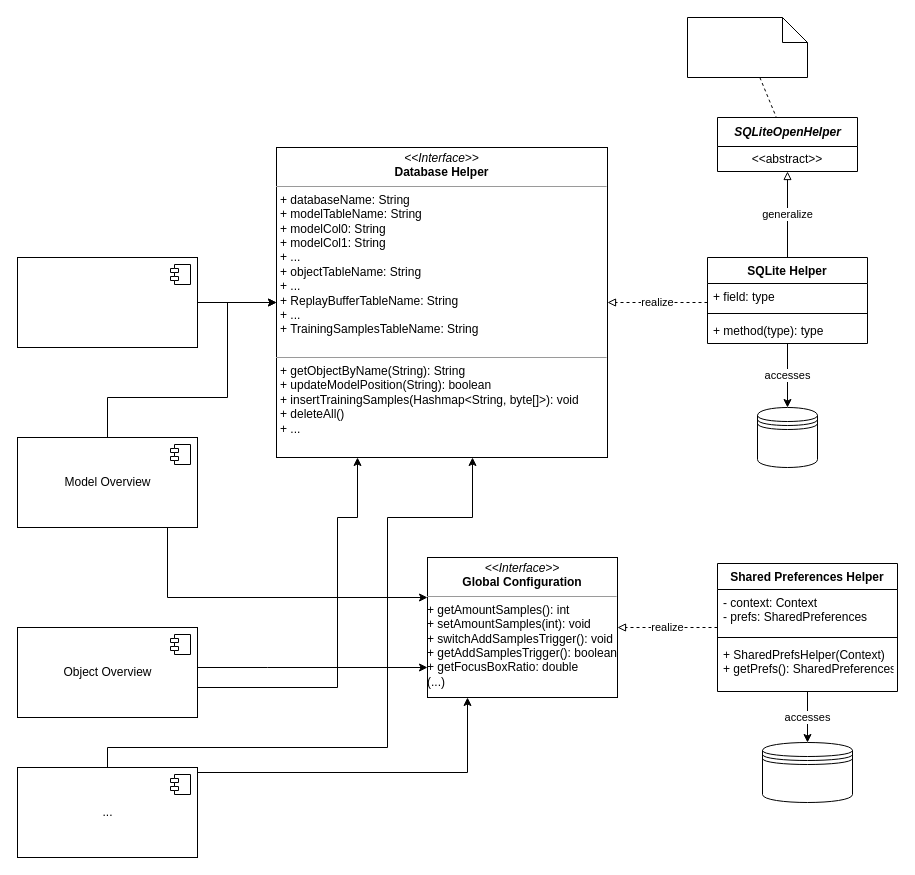
Image size: 915x875. Some labels were removed from this diagram. The shapes that lost their labels are listed below. From the top down, each one's centre as x and y in pixels, then its label:
At point (747, 47): "From Android Library".
At point (107, 302): "Camera Fragment".
At point (787, 437): "Database".
At point (807, 772): "Shared Preferences".
